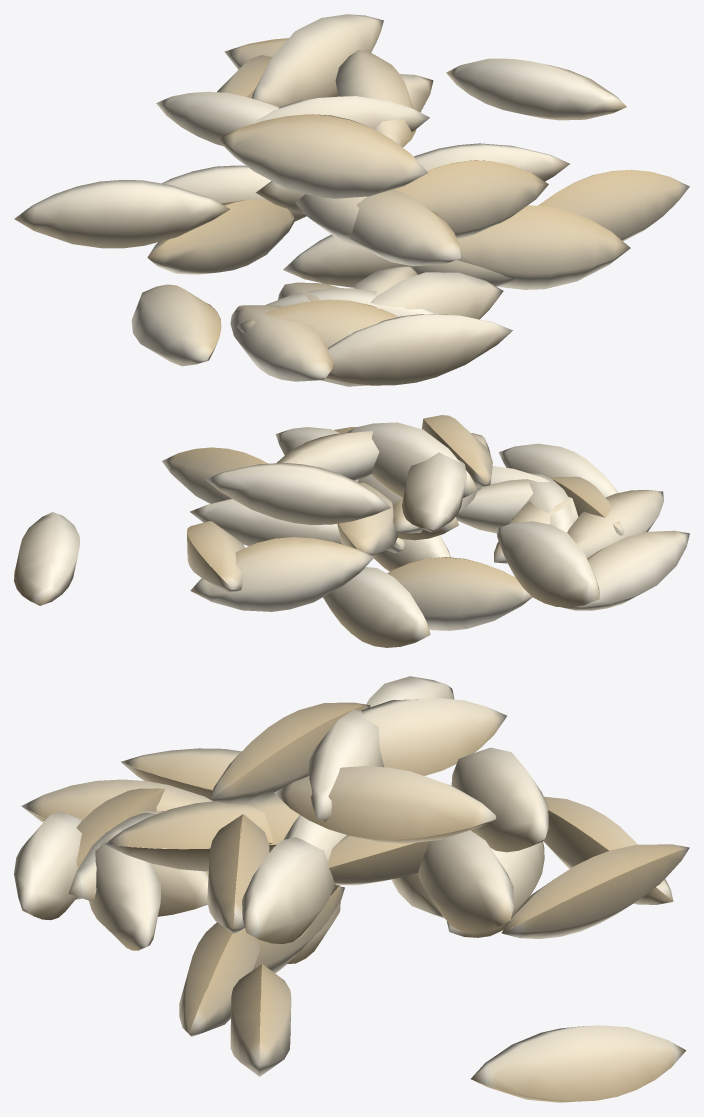
File: NP_Rice_WhitePile_LOD1.fbx
The picture shows the model from 3 angles, top to bottom: view 1: azimuth 30°, elevation 25°; view 2: azimuth 150°, elevation 25°; view 3: azimuth 270°, elevation 25°; orthographic projection. The views are drawn at different scales.
Visible parts, largest first — view 1: NP_Rice_WhitePile.001; view 2: NP_Rice_WhitePile.001; view 3: NP_Rice_WhitePile.001.
Part boxes in pixels (left/top/right/bottom): NP_Rice_WhitePile.001: left=14, top=14, right=689, bottom=386; NP_Rice_WhitePile.001: left=14, top=415, right=689, bottom=647; NP_Rice_WhitePile.001: left=14, top=676, right=689, bottom=1102.
Size of the model in its own units: 19.91 by 5.74 by 16.7.
